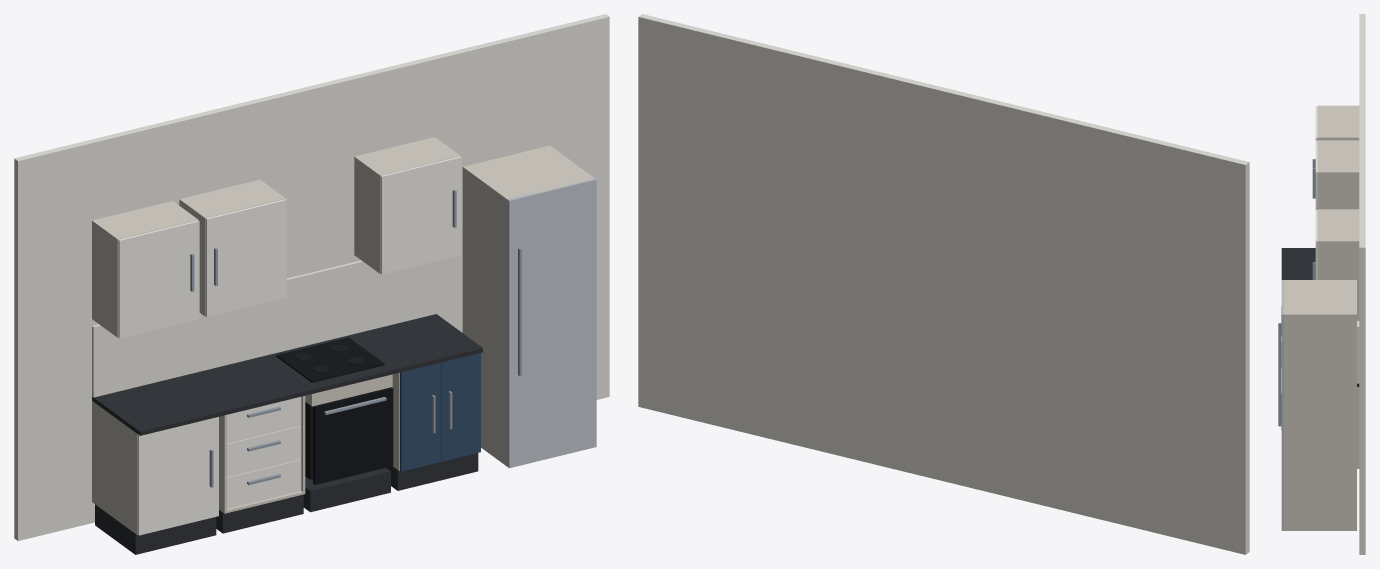
File: demo-kitchen.glb
3 views of the same model, side by side, from view 1: azimuth 30°, elevation 25°; view 2: azimuth 150°, elevation 25°; view 3: azimuth 270°, elevation 25° (orthographic). The views are drawn at different scales.
Parts seen in each view (by area): view 1: Wall, Fridge door, Side left (×6), Splashback, Wall door left (×2), Worktop, Top (×4), Plinth (×4), Base door left, Wall door right, Oven door, Sink door left (+6 smaller); view 2: Wall; view 3: Side right (×5), Top (×4), Wall, Worktop, Fridge door, Fridge handle, Wall door left, Wall door right, Splashback.
Part boxes in pixels (x1,y1,x2,y2): Wall: (14,14,609,540); Fridge door: (507,178,596,468); Side left (×6): (92,156,508,534); Splashback: (92,260,436,397); Wall door left (×2): (118,156,461,338); Worktop: (92,314,482,435); Top (×4): (95,137,591,238); Plinth (×4): (95,453,478,554); Base door left: (137,417,218,535); Wall door right: (205,199,286,316); Oven door: (313,387,393,484); Sink door left: (400,362,440,471); Wall: (638,14,1249,554); Side right (×5): (1284,136,1359,530); Top (×4): (1284,106,1359,313); Wall: (1359,14,1365,554); Worktop: (1281,248,1359,386); Fridge door: (1281,280,1285,530); Fridge handle: (1278,323,1281,426); Wall door left: (1315,210,1317,279); Wall door right: (1315,140,1317,209); Splashback: (1357,321,1359,383).
Size of the model in its own units: 4.4 by 2.7 by 0.697.
